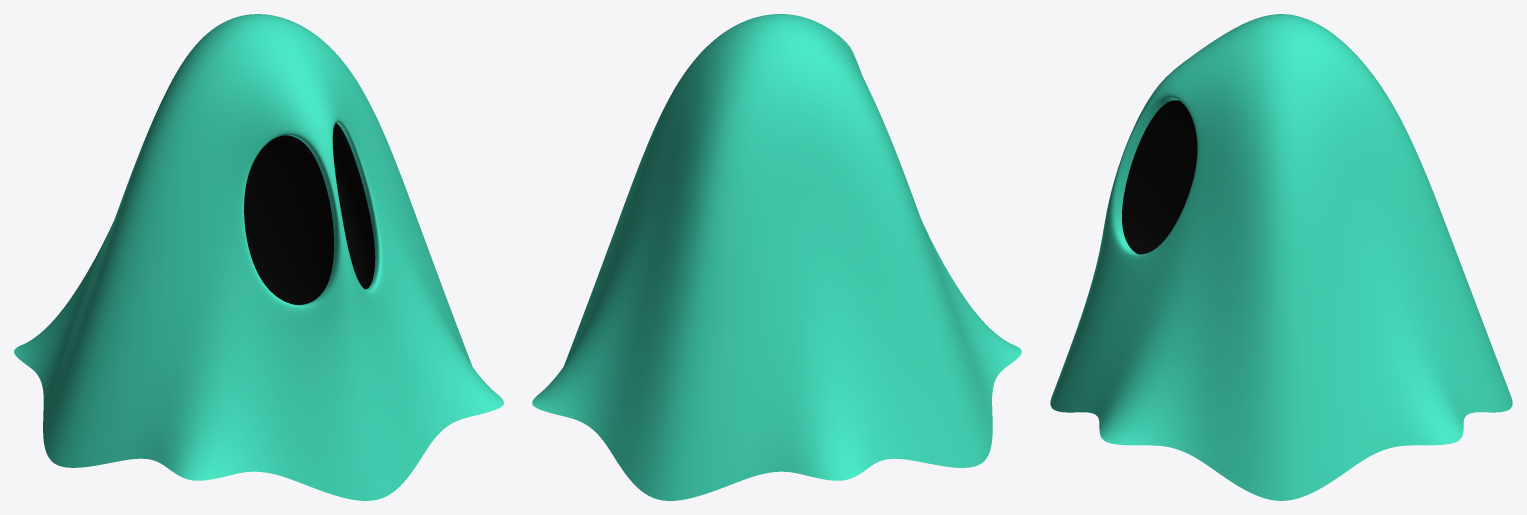
The model's file is enemy.fbx.
3 views of the same model, side by side, from view 1: azimuth 30°, elevation 25°; view 2: azimuth 150°, elevation 25°; view 3: azimuth 270°, elevation 25° (orthographic). The views are drawn at different scales.
Parts seen in each view (by area): view 1: Plane; view 2: Plane; view 3: Plane.
Part boxes in pixels (<box>): Plane: <box>14,14,503,500</box>; Plane: <box>532,14,1021,500</box>; Plane: <box>1050,14,1512,500</box>.
Bounding box in the file's own units: 254 × 232 × 254.
